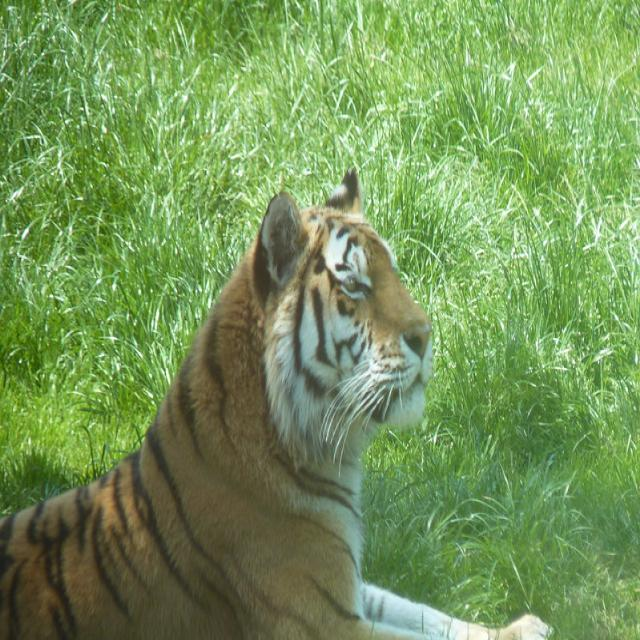Tiger: (0, 169, 478, 639)
